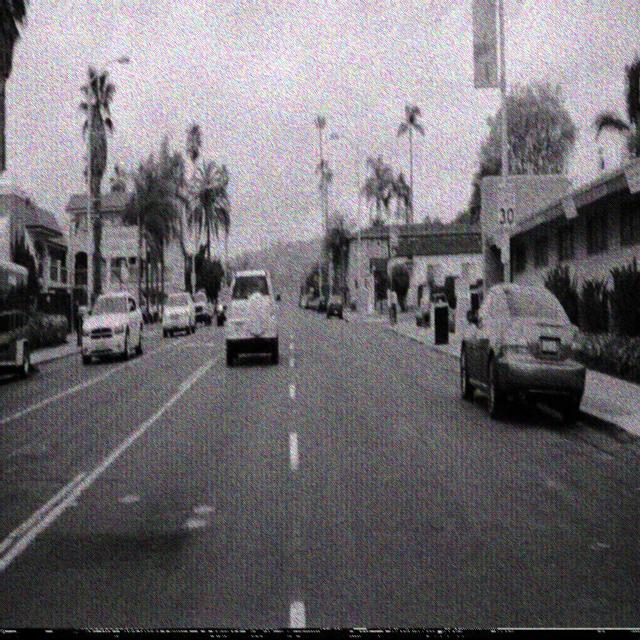speedLimit30: (495, 179, 516, 228)
